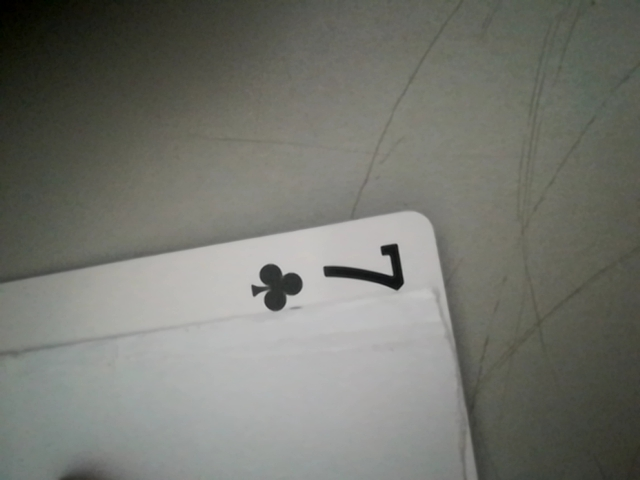mh 7: (230, 239, 427, 315)
